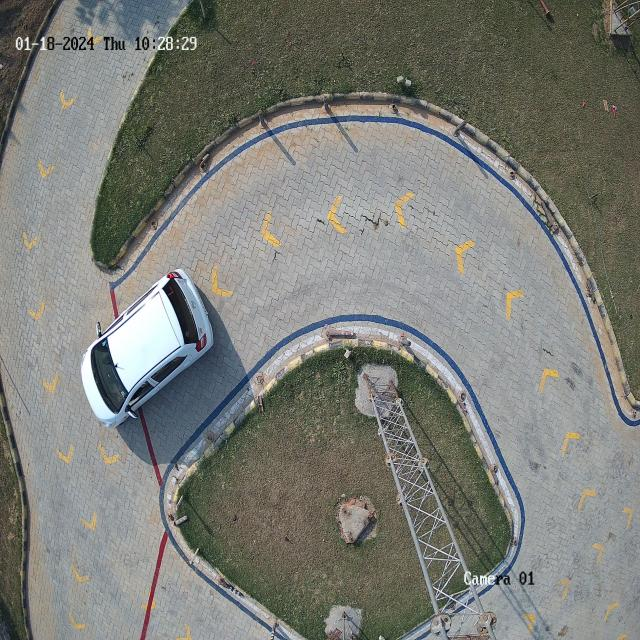car: (79, 266, 214, 429)
